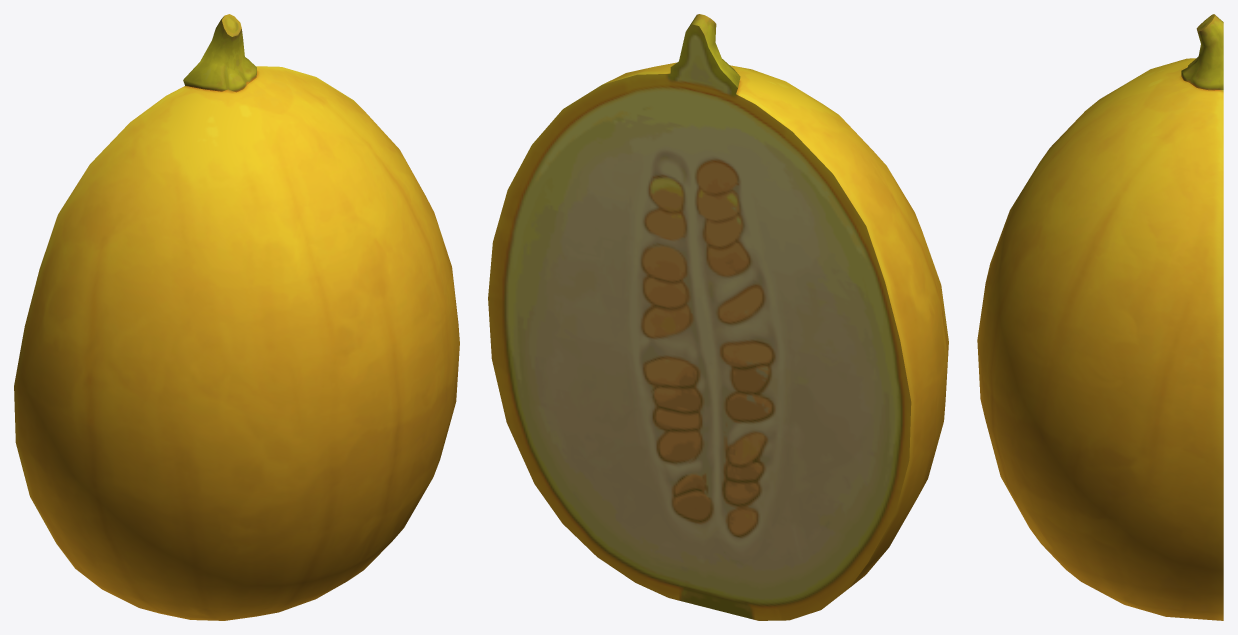
Rendered from SM_HoneydewMelonCutA.fbx.
3 renders of one model, left to right at view 1: azimuth 30°, elevation 25°; view 2: azimuth 150°, elevation 25°; view 3: azimuth 270°, elevation 25°, orthographic. The views are drawn at different scales.
Visible parts, largest first — view 1: SM_HoneydewMelonCutA; view 2: SM_HoneydewMelonCutA; view 3: SM_HoneydewMelonCutA.
Part boxes in pixels (left/top/right/bottom): SM_HoneydewMelonCutA: left=14, top=14, right=459, bottom=620; SM_HoneydewMelonCutA: left=488, top=14, right=948, bottom=620; SM_HoneydewMelonCutA: left=977, top=14, right=1223, bottom=620.
Bounding box in the file's own units: 24.26 × 32.21 × 12.36.
